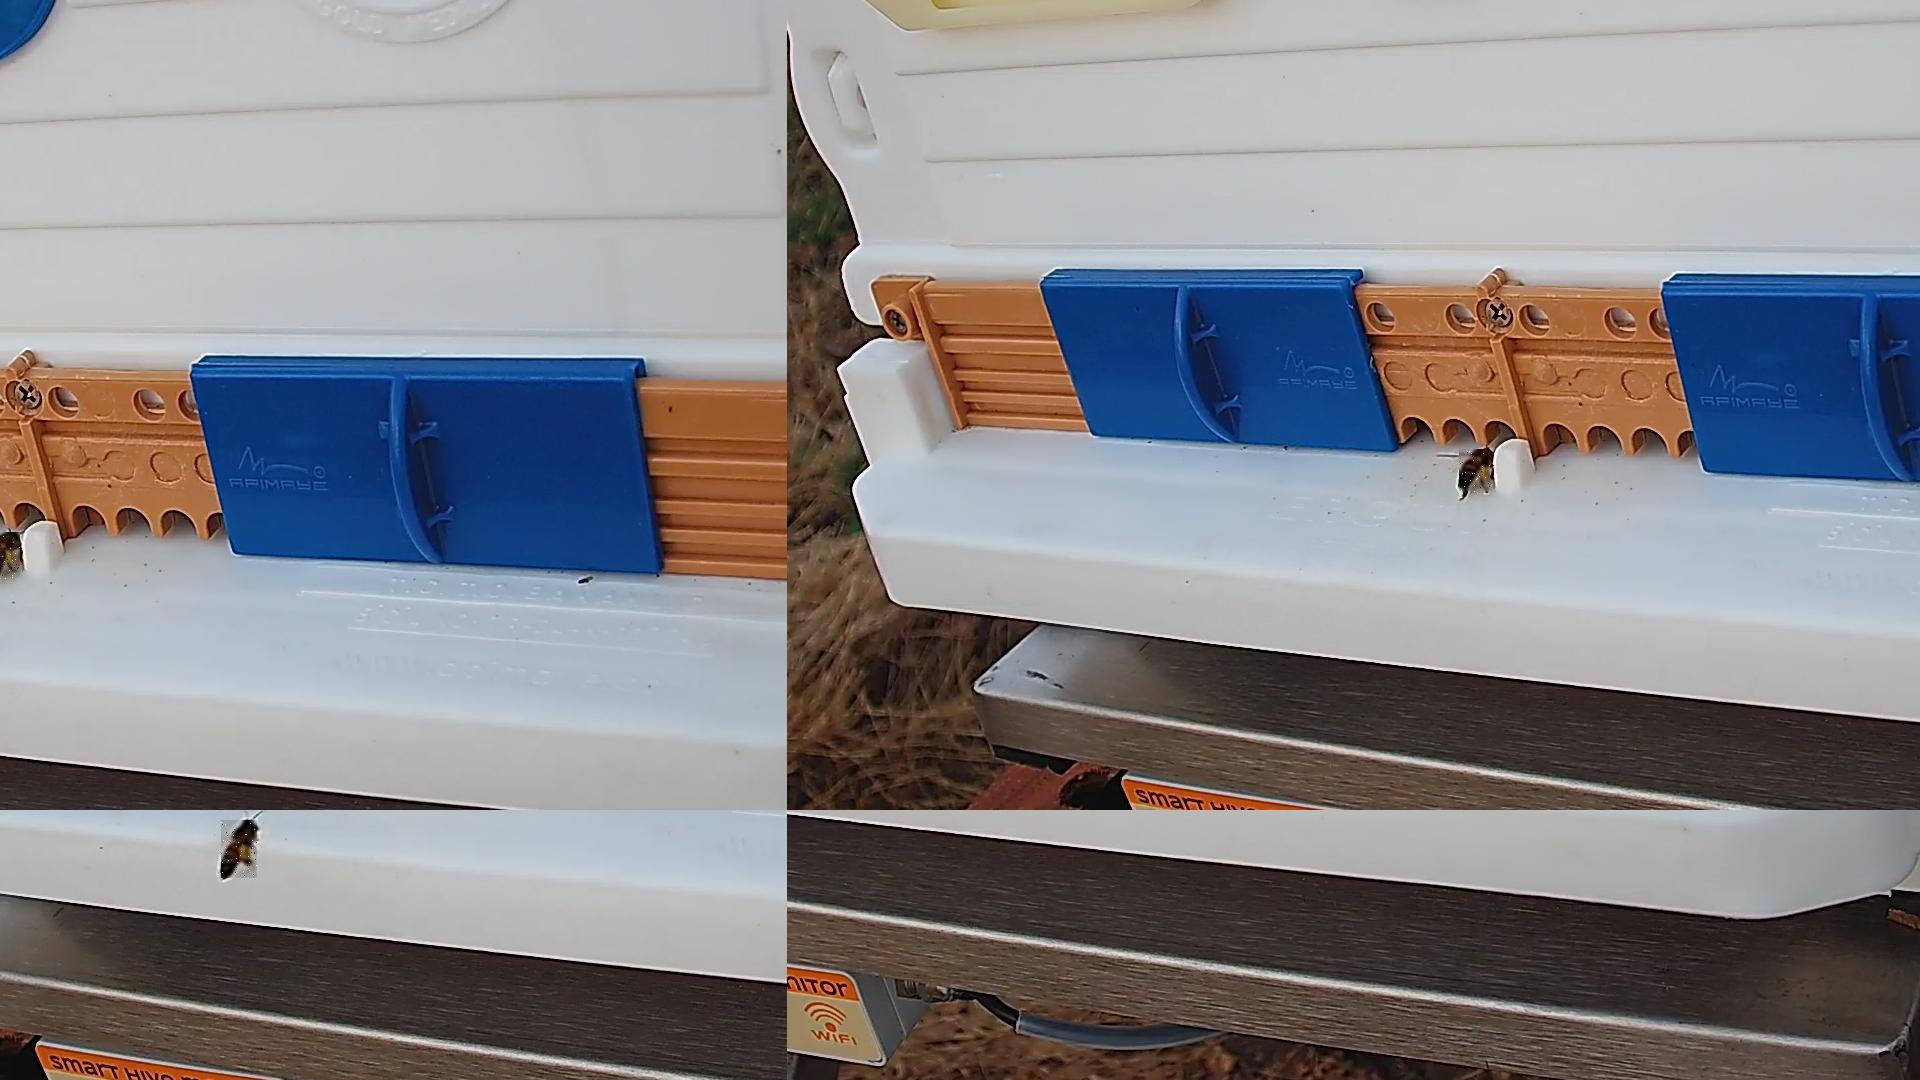pollenbee: (222, 820, 258, 880), (1460, 450, 1491, 495), (0, 531, 22, 582)
